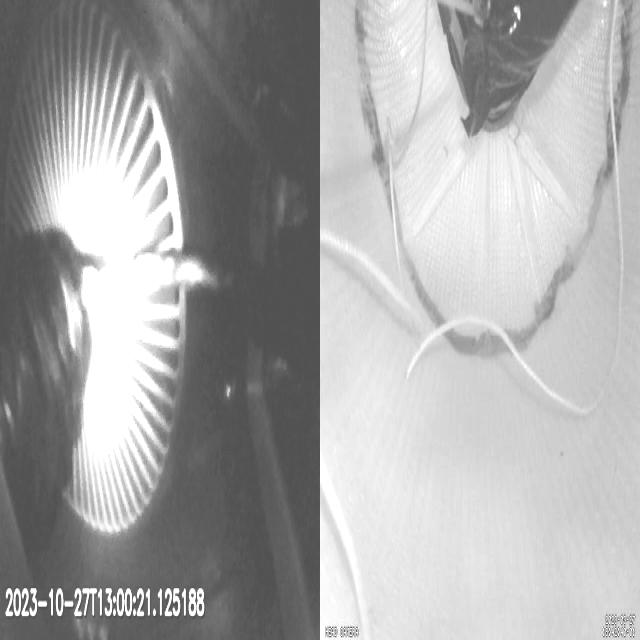red-circle: (352, 2, 633, 362)
